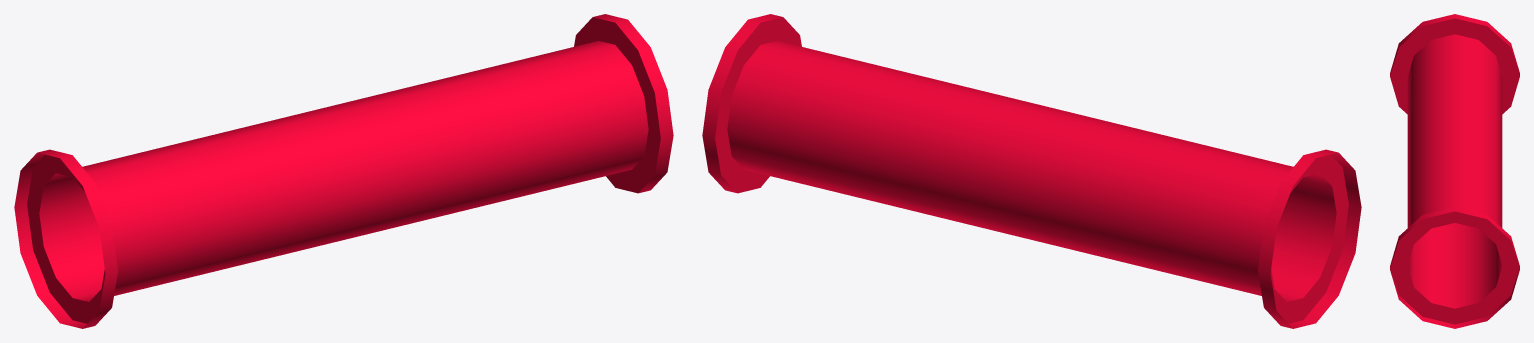
File: Pipe_Middle.fbx
3 renders of one model, left to right at view 1: azimuth 30°, elevation 25°; view 2: azimuth 150°, elevation 25°; view 3: azimuth 270°, elevation 25°, orthographic. The views are drawn at different scales.
Visible parts, largest first — view 1: Pipe_Middle; view 2: Pipe_Middle; view 3: Pipe_Middle.
Boxes of the visible parts, x1,y1,x2,y2 form: Pipe_Middle: [14, 14, 673, 328]; Pipe_Middle: [702, 14, 1361, 328]; Pipe_Middle: [1390, 14, 1519, 328].
Bounding box in the file's own units: 985 × 274 × 274.
